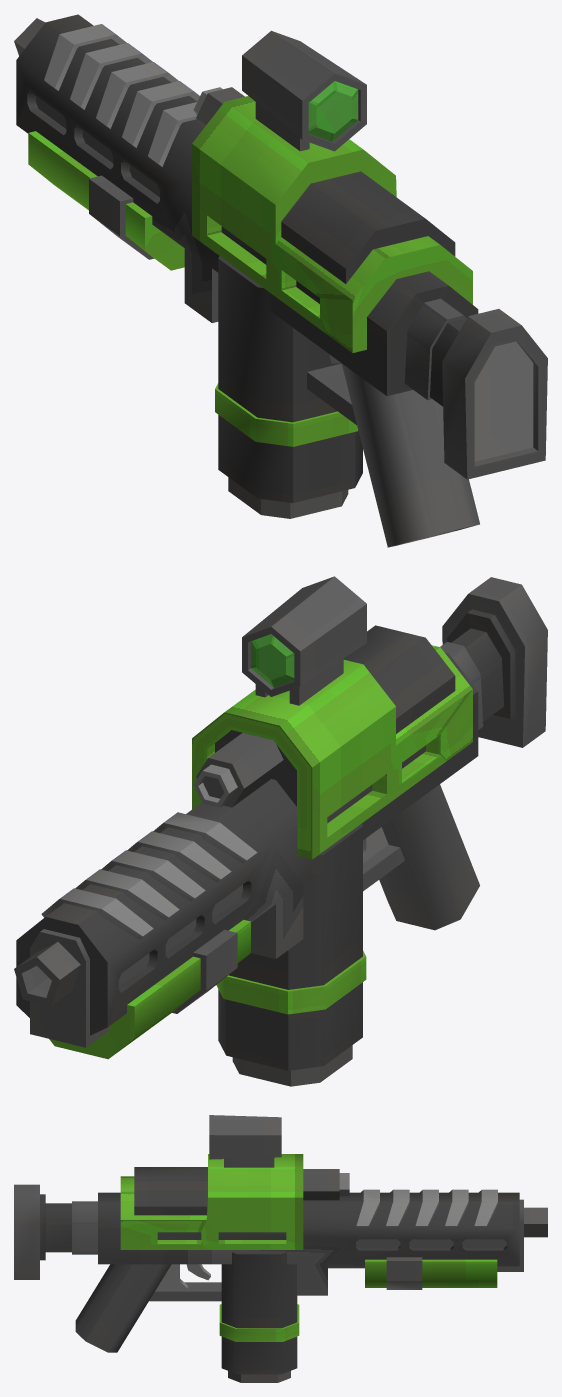
Rendered from smg_9.glb.
3 views of the same model, one above another, from view 1: azimuth 30°, elevation 25°; view 2: azimuth 150°, elevation 25°; view 3: azimuth 270°, elevation 25° (orthographic). The views are drawn at different scales.
Visible parts, largest first — view 1: subfusil_9_texture_0; view 2: subfusil_9_texture_0; view 3: subfusil_9_texture_0.
Boxes of the visible parts, x1,y1,x2,y2 form: subfusil_9_texture_0: (14, 14, 547, 547); subfusil_9_texture_0: (14, 576, 547, 1086); subfusil_9_texture_0: (14, 1115, 547, 1382).
Size of the model in its own units: 0.0837 by 0.2995 by 0.5653.
Materials: 1 (1 with a texture image).
